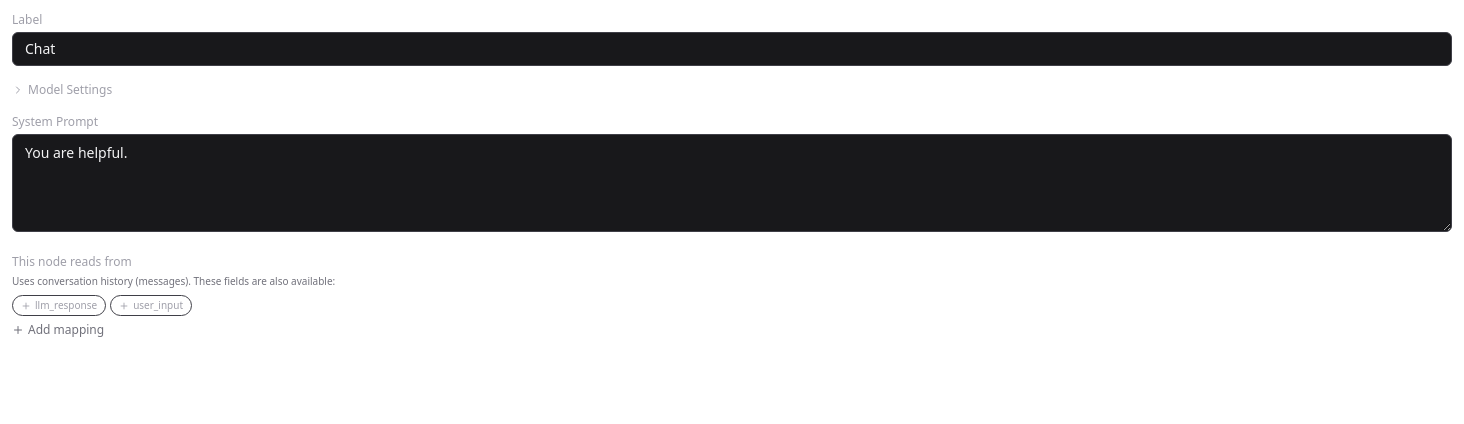
Test: LLMNodeConfig › add mapping button creates a new row
Click the button "Add mapping": (58, 330) [12,322,104,338]
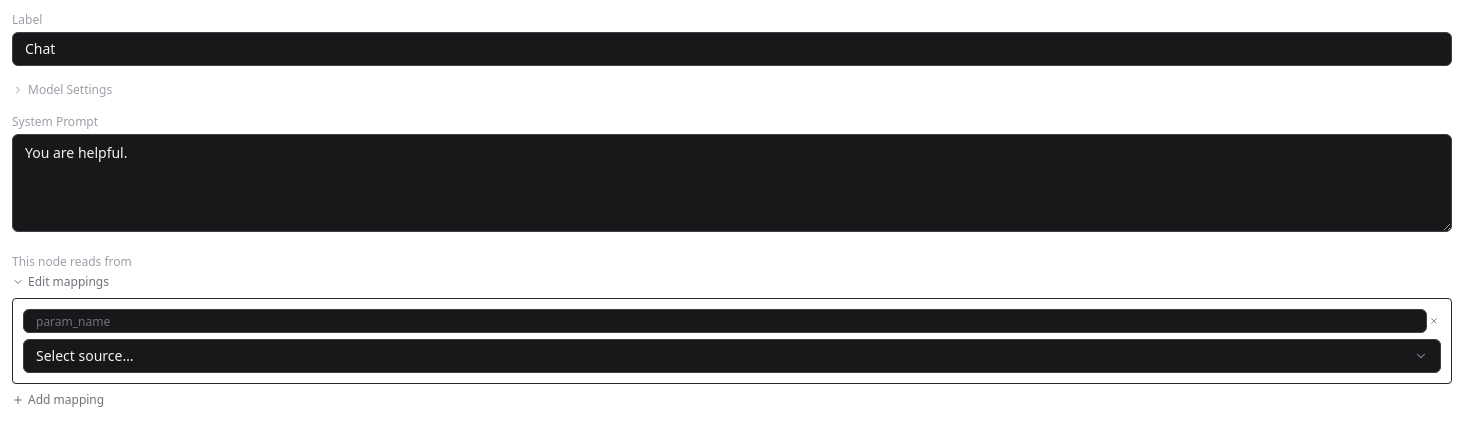
Result: the field with placeholder "param_name" is shown at [23,309,1427,333]
